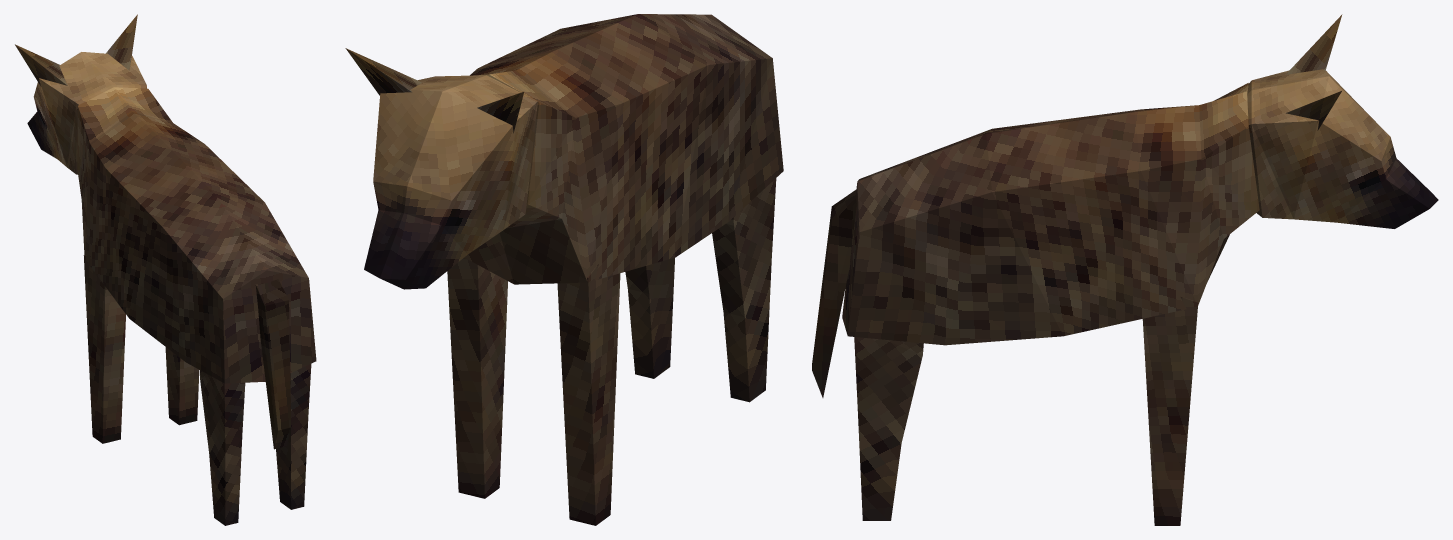
Rendered from Hyena_Hyena.glb.
The picture shows the model from 3 angles, left to right: view 1: azimuth 30°, elevation 25°; view 2: azimuth 150°, elevation 25°; view 3: azimuth 270°, elevation 25°; orthographic projection. The views are drawn at different scales.
Visible parts, largest first — view 1: Body, Head, Leg1, Leg3, Leg4, Leg2; view 2: Body, Head, Leg1, Leg2, Leg3, Leg4; view 3: Body, Head, Leg2, Leg4.
Boxes of the visible parts, x1,y1,x2,y2 form: Body: (77, 87, 316, 449); Head: (15, 14, 146, 174); Leg1: (83, 255, 125, 443); Leg3: (200, 370, 245, 525); Leg4: (276, 364, 311, 509); Leg2: (165, 347, 199, 425); Body: (464, 14, 783, 284); Head: (345, 48, 537, 289); Leg1: (557, 264, 620, 525); Leg2: (447, 257, 507, 498); Leg3: (712, 178, 776, 402); Leg4: (625, 257, 674, 378); Body: (812, 83, 1259, 397); Head: (1247, 14, 1438, 228); Leg2: (1142, 297, 1198, 525); Leg4: (854, 337, 923, 520).
Size of the model in its own units: 0.4216 by 1.14 by 1.46.
1 material, 1 textured.
